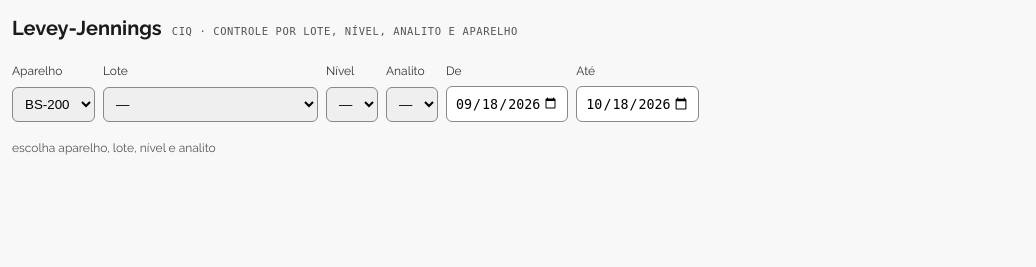
Test: LabQcChart › recusa do api vira a frase, sem releitura automática
The image size is (1036, 267).
Select "L2026A · Controle bioquímico" in the dropdown labelled "Lote" at (210,104), box [103,87,318,122]
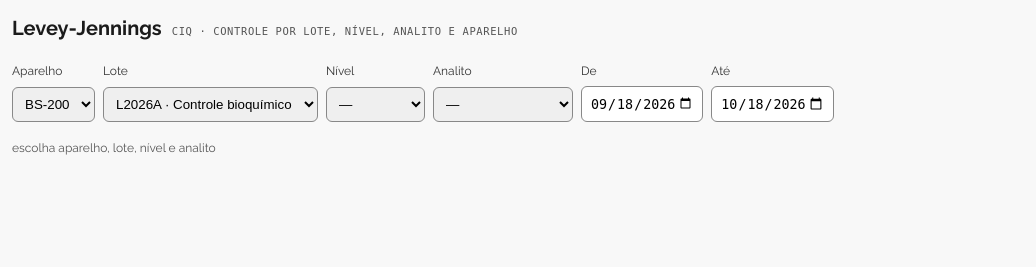
Select "normal" in the dropdown labelled "Nível" at (376,104), box [326,87,425,122]
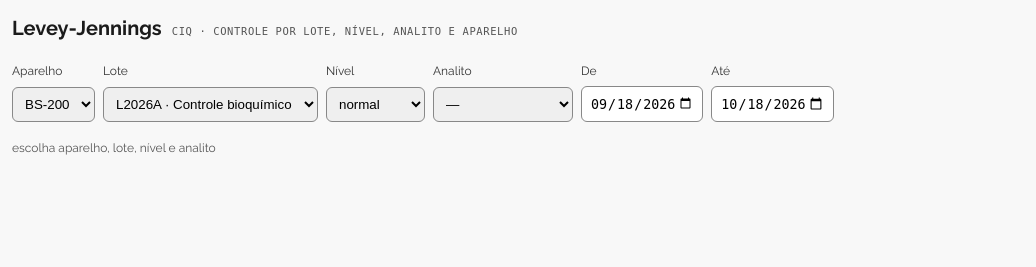
Select "Glicose (Glicose)" in the dropdown labelled "Analito" at (503,104), box [433,87,573,122]
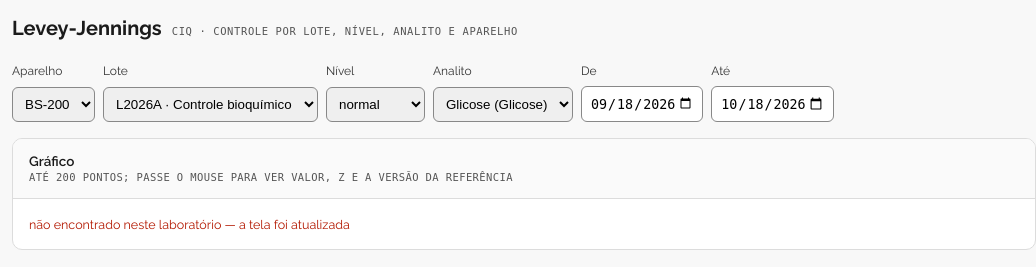
Expected: the message shows "não encontrado neste laboratório", [29,215,350,232]
